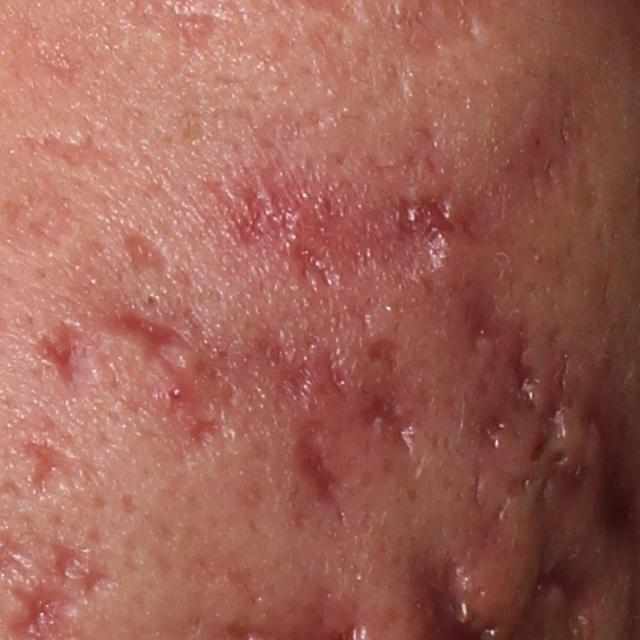atrophic_scar: (98, 309, 188, 375), (289, 412, 343, 520), (354, 389, 428, 454), (30, 129, 140, 172), (18, 437, 93, 498), (530, 365, 569, 461), (36, 319, 86, 390), (465, 297, 513, 354), (118, 229, 173, 275), (493, 470, 539, 525), (504, 323, 537, 395), (51, 537, 88, 578), (474, 412, 510, 453), (365, 337, 401, 375), (188, 419, 227, 450), (80, 562, 112, 598)
